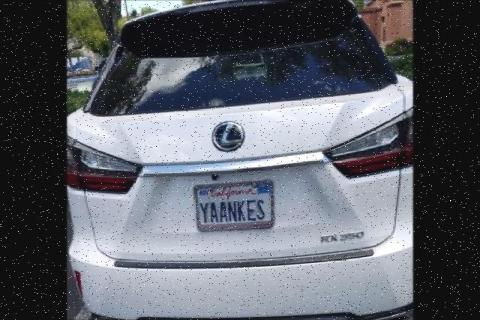LicensePlate: (192, 181, 275, 225)
